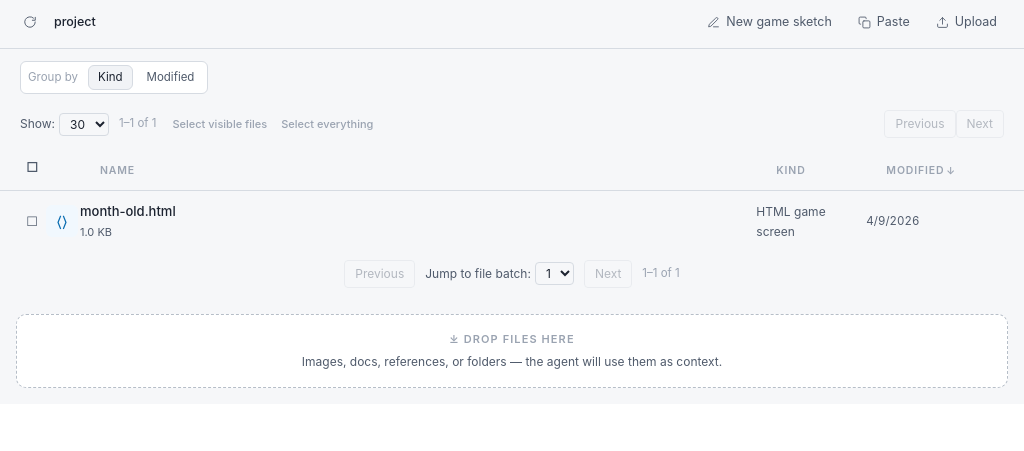
Test: GameFilesPanel grouping › keeps files from thirty calendar days ago in the previous 30 days group
Click the button "Modified" at (170, 77), box [136,65,204,90]
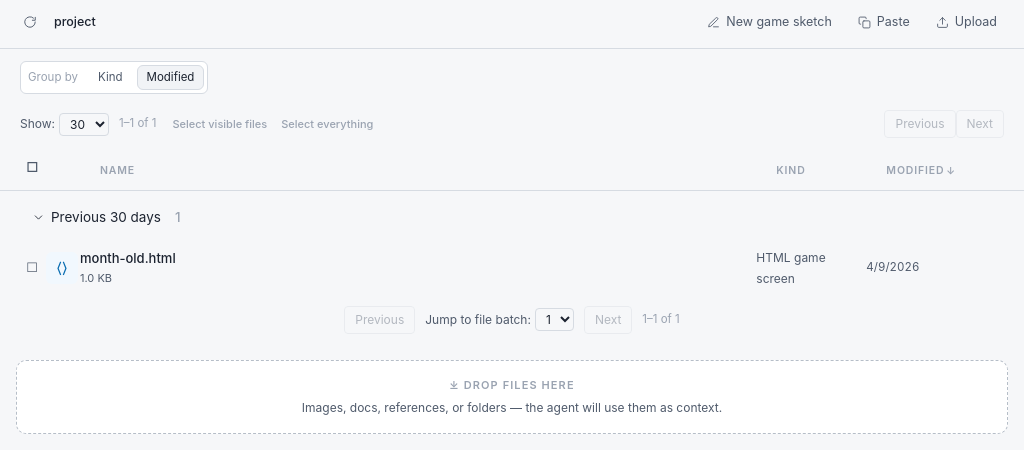
Expected: the row with test id "game-file-row-month-old.html" is shown, [0,237,1023,298]
Expected: the text "Previous 30 days" is shown, [51,207,161,227]
